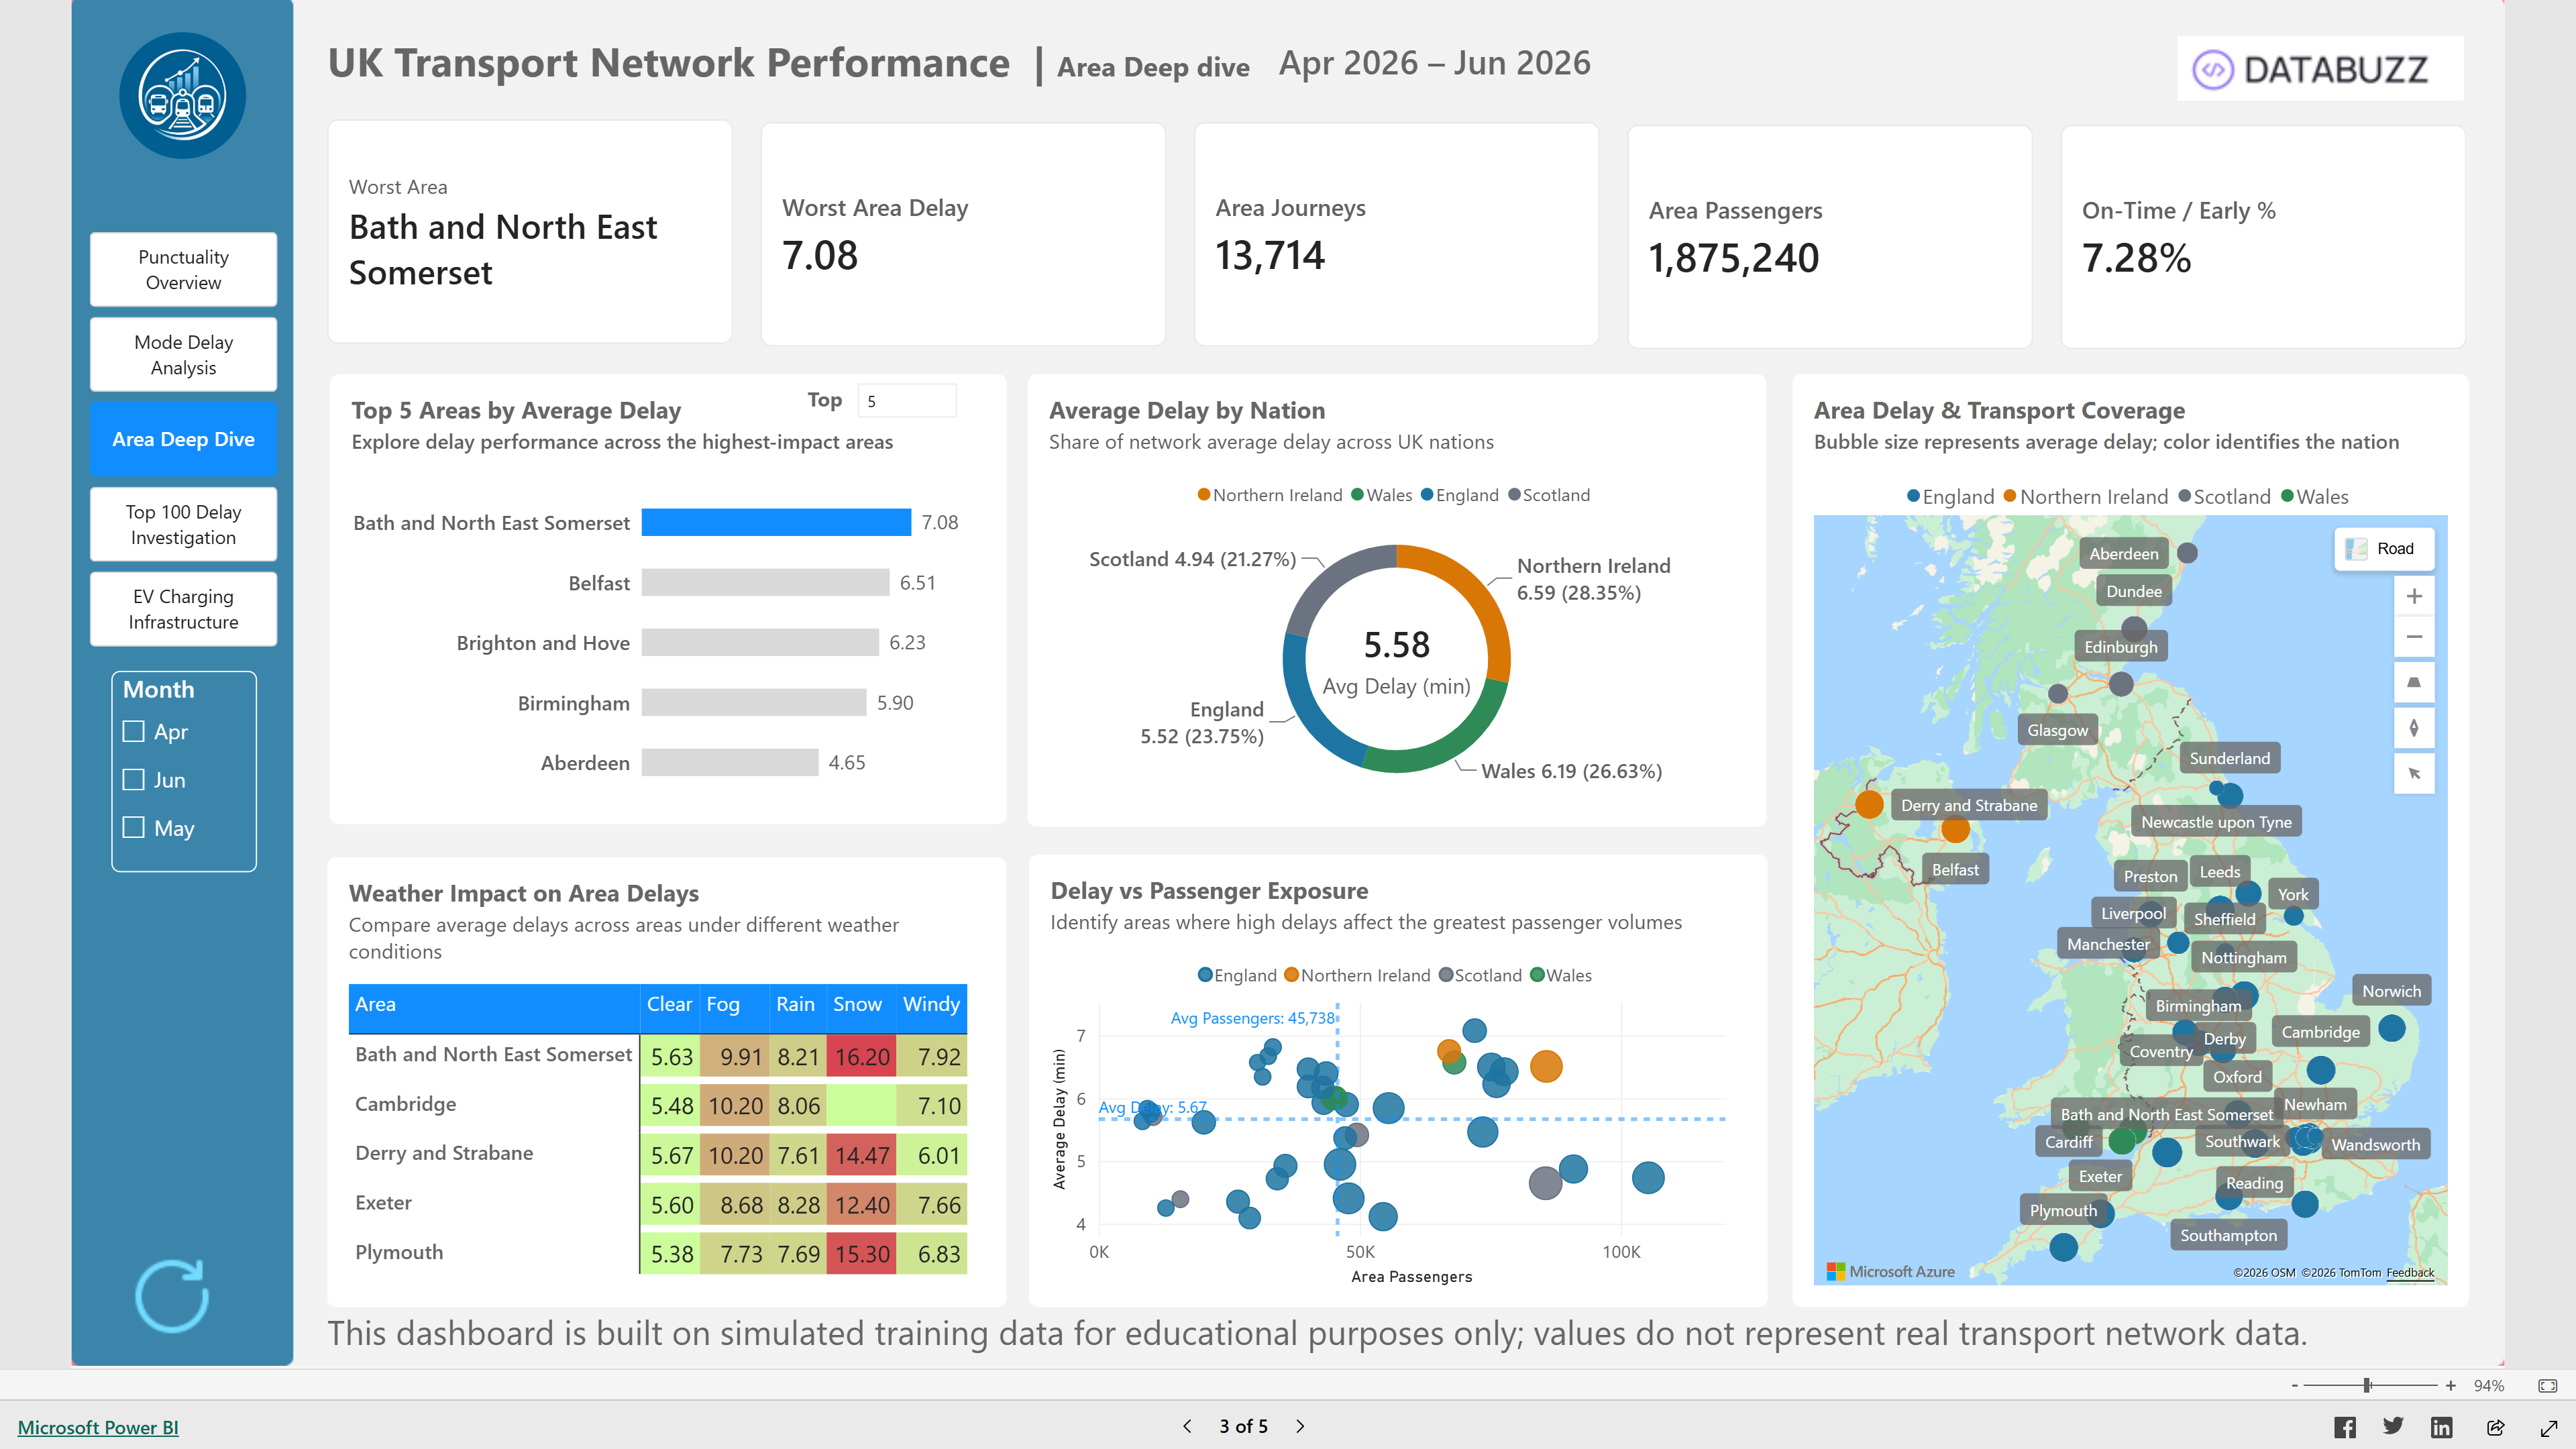

The dashboard page shown, as its layout file describes it:
{"tool":"powerbi","page":{"name":"Area Deep Dive","canvas":[1920,1080],"ordinal":2},"visuals":[{"type":"cardVisual","fields":{"Data":["Calculations.Worst Area"]},"box":[202.5,93.9,320,177.4],"z":0},{"type":"cardVisual","fields":{"Data":["Calculations.Worst Area Delay"]},"box":[544.4,95.9,320,177.4],"z":1000},{"type":"cardVisual","fields":{"Data":["Calculations.Area Journeys"]},"box":[886.3,95.9,320,177.4],"z":2000},{"type":"cardVisual","fields":{"Data":["Calculations.Area Passengers"]},"box":[1228.2,98,320,177.4],"z":3000},{"type":"cardVisual","fields":{"Data":["Calculations.On-Time / Early %"]},"box":[1570,98.9,320,177.4],"z":4000},{"type":"image","box":[1662.5,25.5,226.2,57.5],"z":5000},{"type":"textbox","box":[202.5,25,897.5,57.5],"z":6000},{"type":"cardVisual","fields":{"Data":["Calculations.Selected Period"]},"box":[937.6,0,320,95],"z":7000},{"type":"clusteredBarChart","fields":{"Category":["dim_areas.area_name"],"Y":["Calculations.Average Delay (min)"]},"box":[204.1,295.5,533.6,355],"z":9000},{"type":"pivotTable","title":"Weather Impact on Area Delays","fields":{"Columns":["fact_journeys.weather_condition"],"Rows":["dim_areas.area_name"],"Values":["Calculations.Average Delay (min)"]},"box":[202,676.1,535.7,355],"z":11000},{"type":"textbox","box":[202.5,1032.5,1652.5,47.5],"z":12000},{"type":"slicer","fields":{"Values":["Calendar.Month"]},"box":[31.9,529.4,114.8,159.4],"z":13000},{"type":"image","box":[38.3,25.5,99.9,99.9],"z":14000},{"type":"textbox","box":[580.8,304,48.5,35.4],"z":14002},{"type":"azureMap","title":"Area Delay & Transport Coverage","fields":{"Category":["dim_areas.area_name"],"Series":["dim_areas.nation"],"Size":["Calculations.Average Delay (min)"]},"box":[1358.5,295.5,533.6,735.6],"z":14003},{"type":"donutChart","title":"Average Delay by Nation","fields":{"Category":["dim_areas.nation"],"Y":["Calculations.Average Delay (min)"]},"box":[754.7,295.5,582.5,357.2],"z":14004},{"type":"scatterChart","title":"Delay vs Passenger Exposure","fields":{"Category":["dim_areas.area_name"],"Series":["dim_areas.nation"],"Size":["Calculations.Area Journeys"],"X":["Calculations.Area Passengers"],"Y":["Calculations.Average Delay (min)"]},"box":[755.6,674.2,582.5,357.2],"z":14007},{"type":"pageNavigator","box":[14.9,182.8,148.8,329.5],"z":14008},{"type":"image","box":[21.3,984.3,116.9,76.5],"z":14009},{"type":"slicer","fields":{"Values":["Top N Areas.Top N Areas"]},"box":[613.1,298,150.5,64.6],"z":14010}]}

Visuals, with their boxes on the page's 1920x1080 design canvas (x1, y1, x2, y2). These are canvas units, not pixel positions in the 2576x1449 screenshot, which may show the page scaled, cropped or inside an application window:
cardVisual - Calculations.Worst Area: locate(202, 94, 522, 271)
cardVisual - Calculations.Worst Area Delay: locate(544, 96, 864, 273)
cardVisual - Calculations.Area Journeys: locate(886, 96, 1206, 273)
cardVisual - Calculations.Area Passengers: locate(1228, 98, 1548, 275)
cardVisual - Calculations.On-Time / Early %: locate(1570, 99, 1890, 276)
image: locate(1662, 26, 1889, 83)
textbox: locate(202, 25, 1100, 82)
cardVisual - Calculations.Selected Period: locate(938, 0, 1258, 95)
clusteredBarChart - dim_areas.area_name x Calculations.Average Delay (min): locate(204, 296, 738, 650)
"Weather Impact on Area Delays" pivotTable: locate(202, 676, 738, 1031)
textbox: locate(202, 1032, 1855, 1080)
slicer - Calendar.Month: locate(32, 529, 147, 689)
image: locate(38, 26, 138, 125)
textbox: locate(581, 304, 629, 339)
"Area Delay & Transport Coverage" azureMap: locate(1358, 296, 1892, 1031)
"Average Delay by Nation" donutChart: locate(755, 296, 1337, 653)
"Delay vs Passenger Exposure" scatterChart: locate(756, 674, 1338, 1031)
pageNavigator: locate(15, 183, 164, 512)
image: locate(21, 984, 138, 1061)
slicer - Top N Areas.Top N Areas: locate(613, 298, 764, 363)
